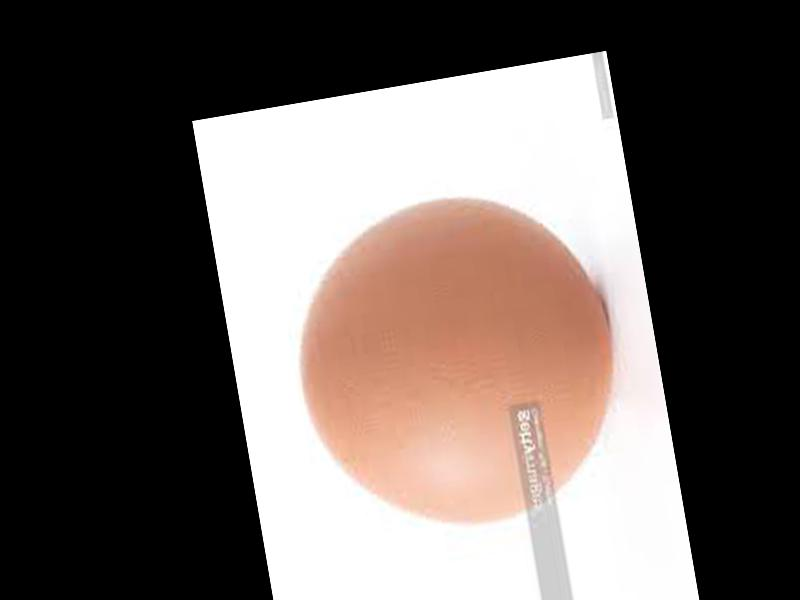Eggs: (275, 177, 631, 549)
